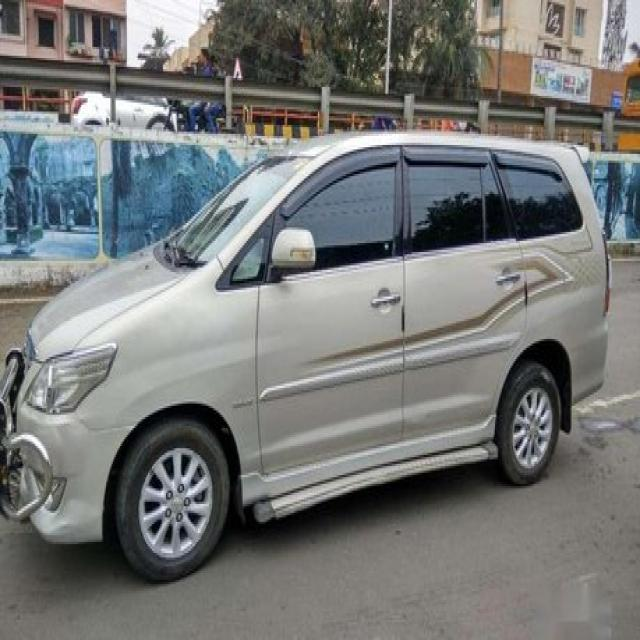light_vehicle: (13, 128, 613, 586)
